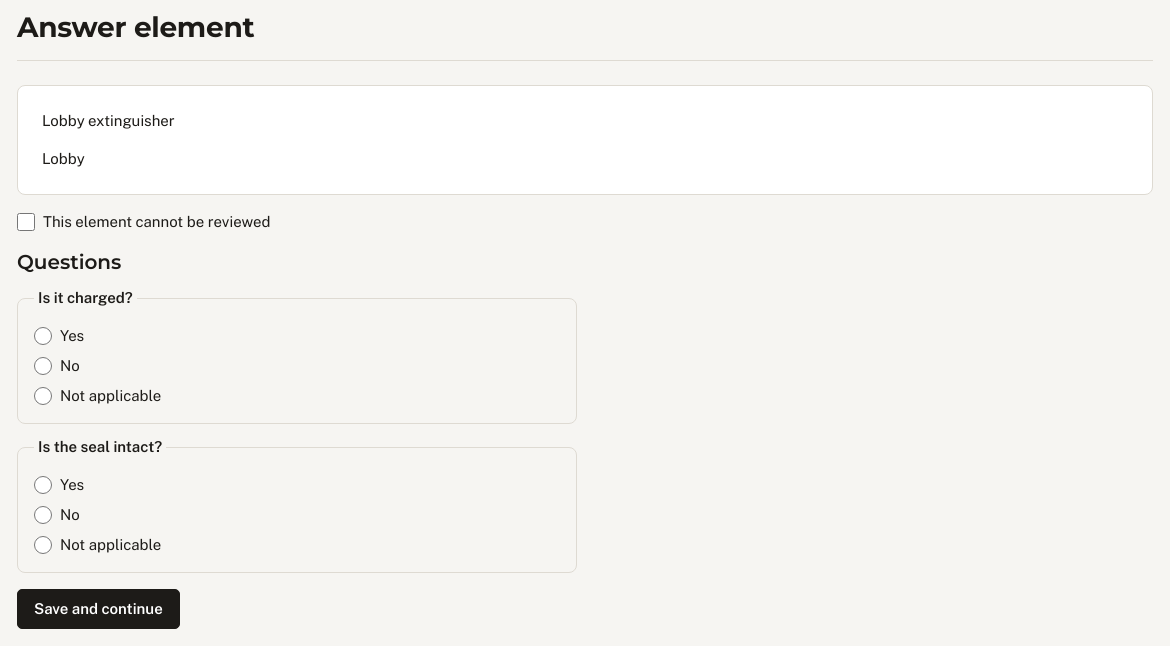
Test: ReviewSessionElementPage › shows no save confirmation when the form is edited while the save is in flight
Check: the element with test id "review-session-element-question-q1" is shown, box [17,287,577,424]
Click the radio button with test id "review-session-element-answer-q1-YES".
click(43, 336)  # box [34,327,52,345]
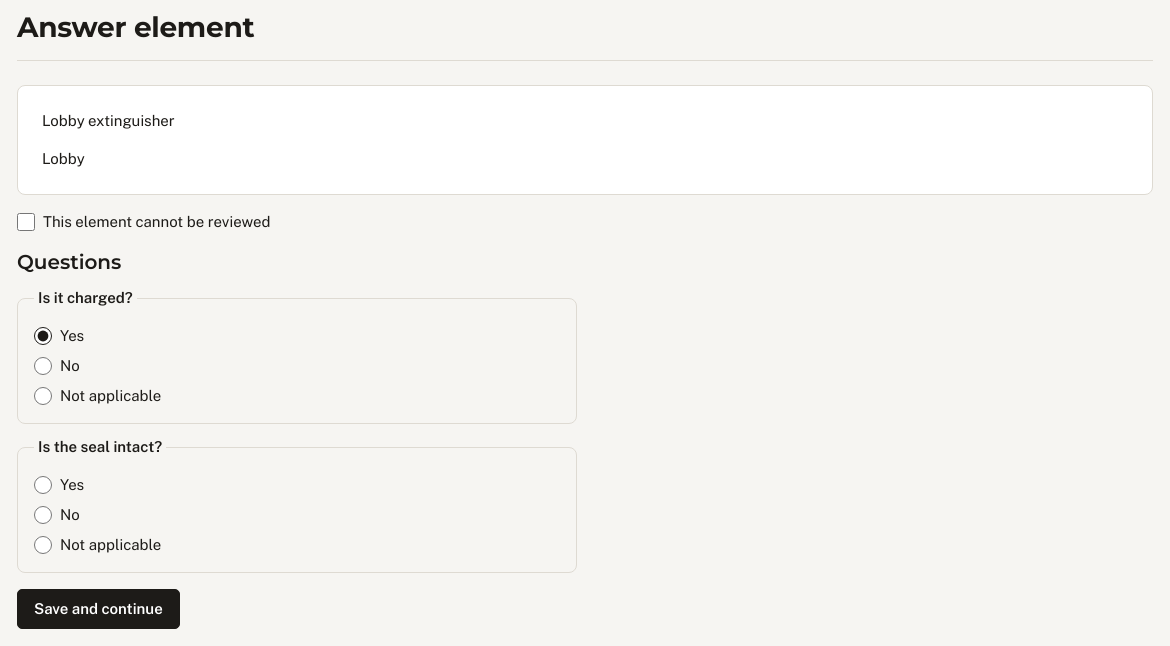
Click the radio button with test id "review-session-element-answer-q2-YES".
click(43, 485)  # box [34,476,52,494]
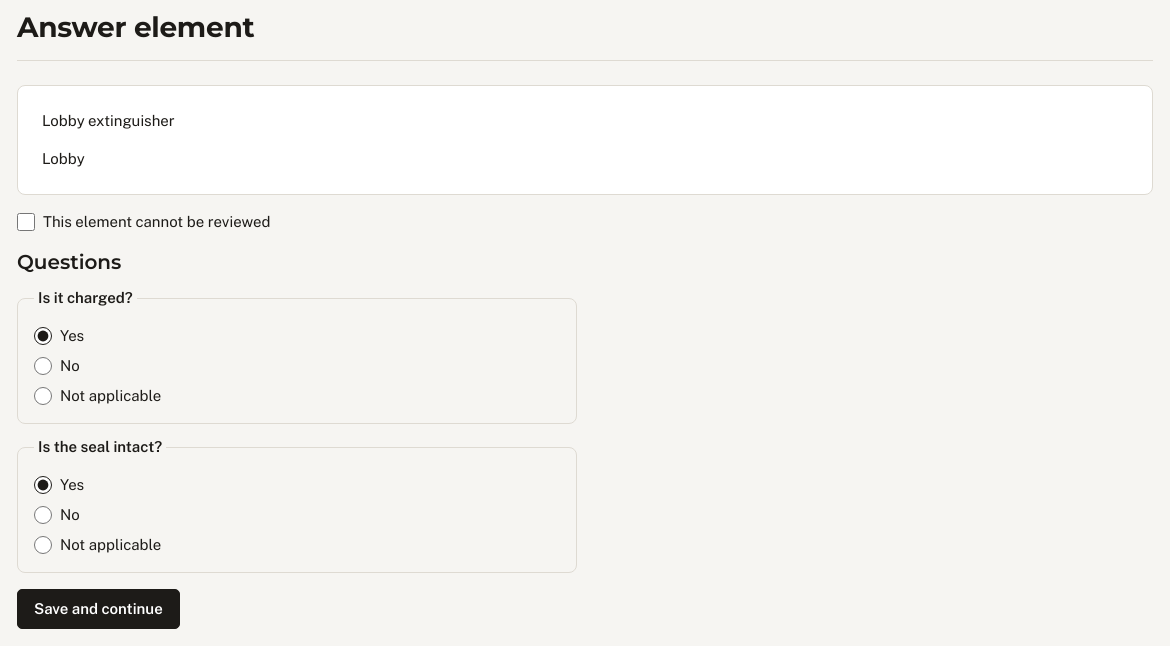
Click the button with test id "review-session-element-save".
click(98, 609)  # box [17,589,180,629]
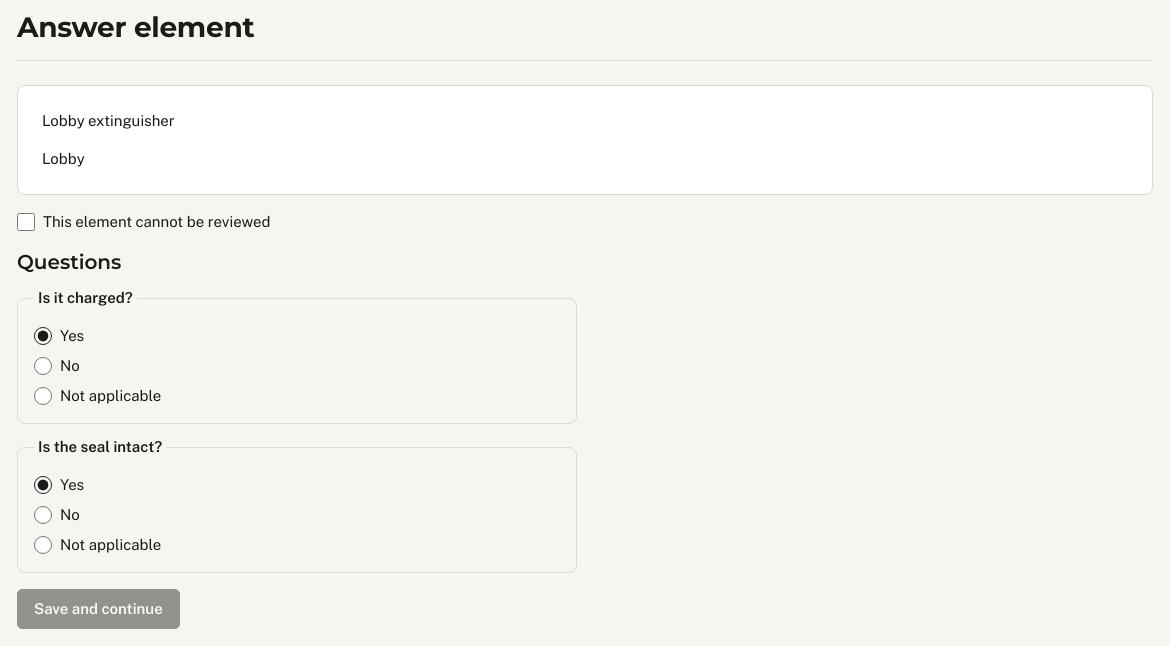
Click the radio button with test id "review-session-element-answer-q1-NO".
click(43, 366)  # box [34,357,52,375]
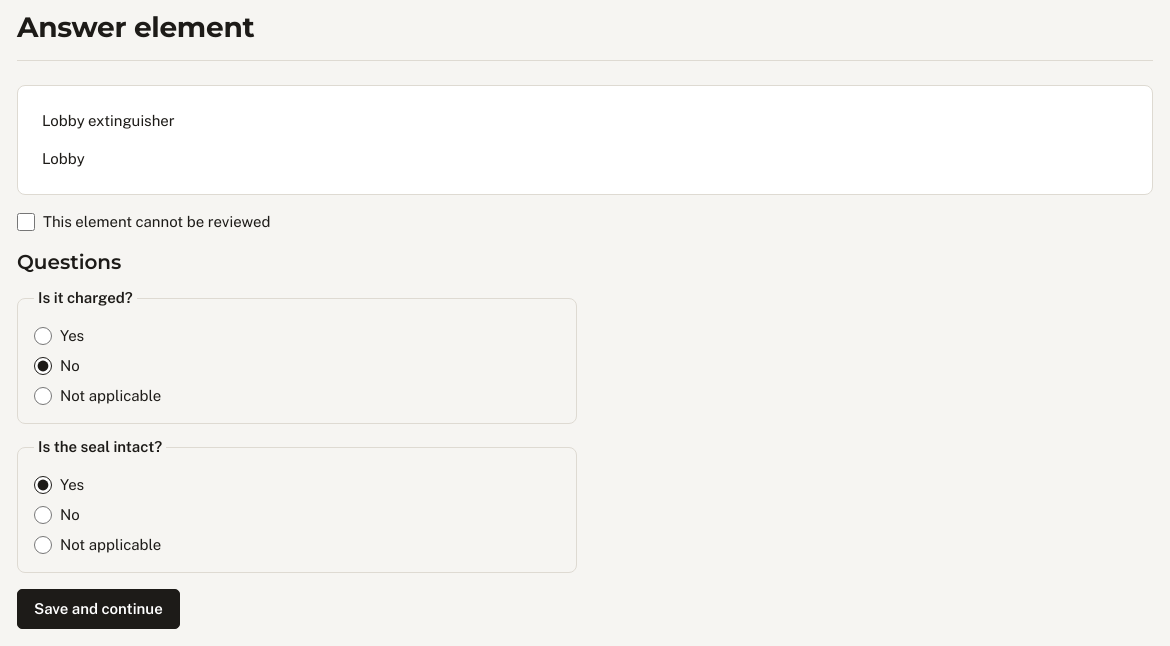
Check: the button with test id "review-session-element-save" is enabled, box [17,589,180,629]
